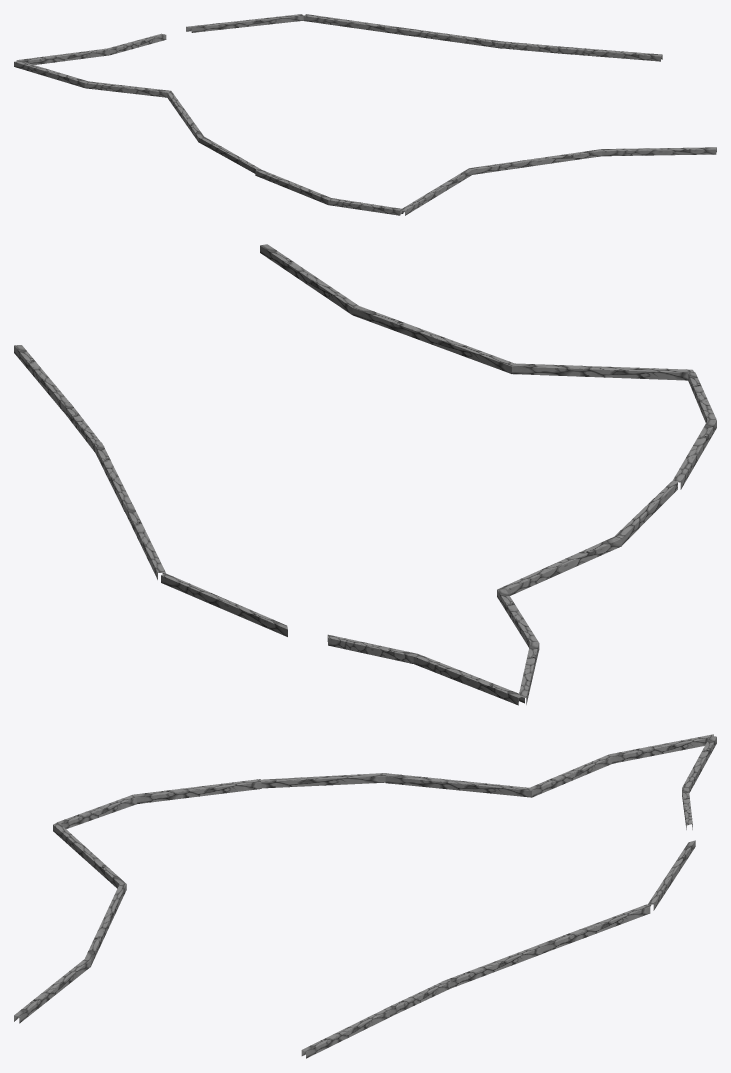
Rendered from tuong 22.fbx.
The picture shows the model from 3 angles, top to bottom: view 1: azimuth 30°, elevation 25°; view 2: azimuth 150°, elevation 25°; view 3: azimuth 270°, elevation 25°; orthographic projection. The views are drawn at different scales.
Parts seen in each view (by area): view 1: tuong_map22; view 2: tuong_map22; view 3: tuong_map22.
Part boxes in pixels (left/top/right/bottom): tuong_map22: left=14, top=14, right=716, bottom=215; tuong_map22: left=14, top=244, right=716, bottom=705; tuong_map22: left=14, top=734, right=716, bottom=1058.
Size of the model in its own units: 22.72 by 0.2323 by 21.22.
1 material, 1 textured.
